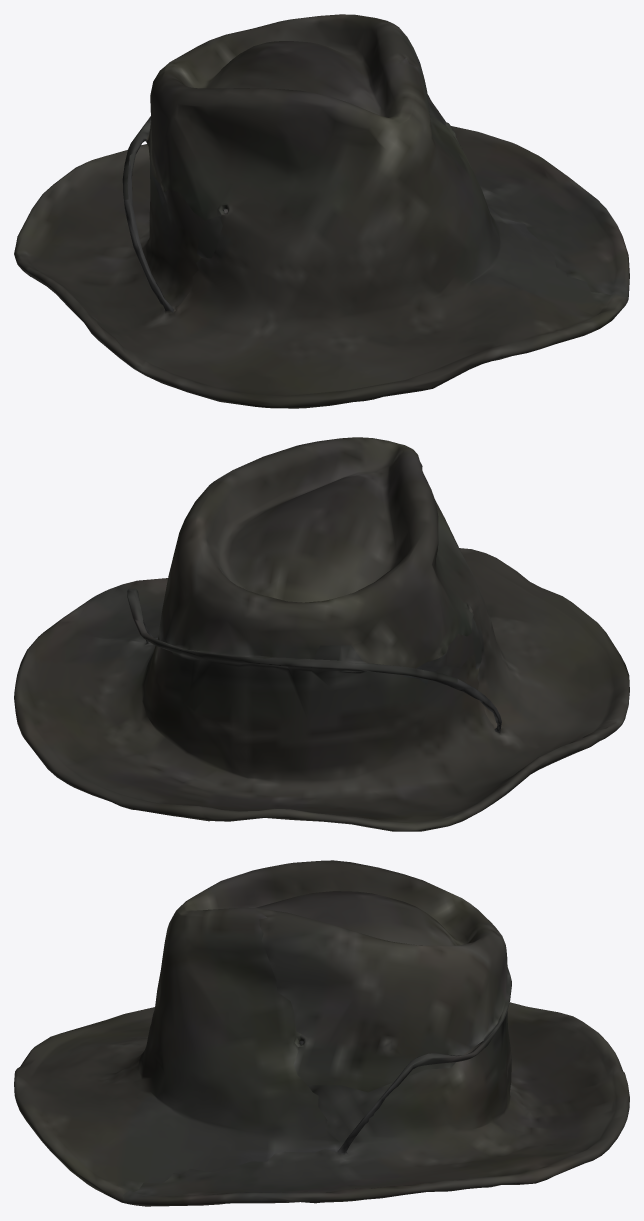
File: DPC_Handmade_Hat_Brown-high.glb
3 renders of one model, top to bottom at view 1: azimuth 30°, elevation 25°; view 2: azimuth 150°, elevation 25°; view 3: azimuth 270°, elevation 25°, orthographic. The views are drawn at different scales.
Parts seen in each view (by area): view 1: DPC_Handmade_Hat_Brown; view 2: DPC_Handmade_Hat_Brown; view 3: DPC_Handmade_Hat_Brown.
Boxes of the visible parts, bbox=[...] form: DPC_Handmade_Hat_Brown: bbox=[14, 14, 629, 408]; DPC_Handmade_Hat_Brown: bbox=[14, 437, 629, 831]; DPC_Handmade_Hat_Brown: bbox=[14, 860, 629, 1206].
Bounding box in the file's own units: 0.3184 × 0.1432 × 0.3539.
Materials: 1 (1 with a texture image).
